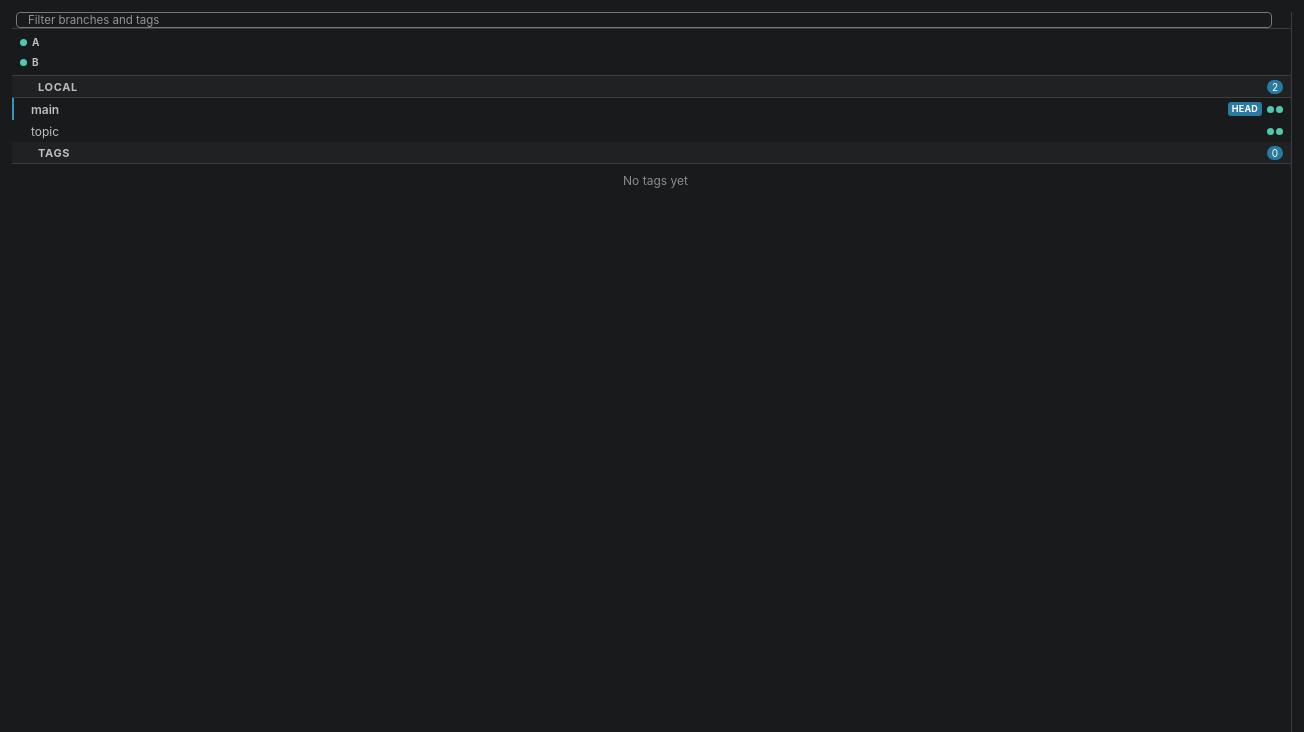
Scenario: plugin sidebar interaction parity › highlights the context target and dismisses on Escape without filtering
Right-click the button "topic": (45,131) [12, 120, 1291, 142]
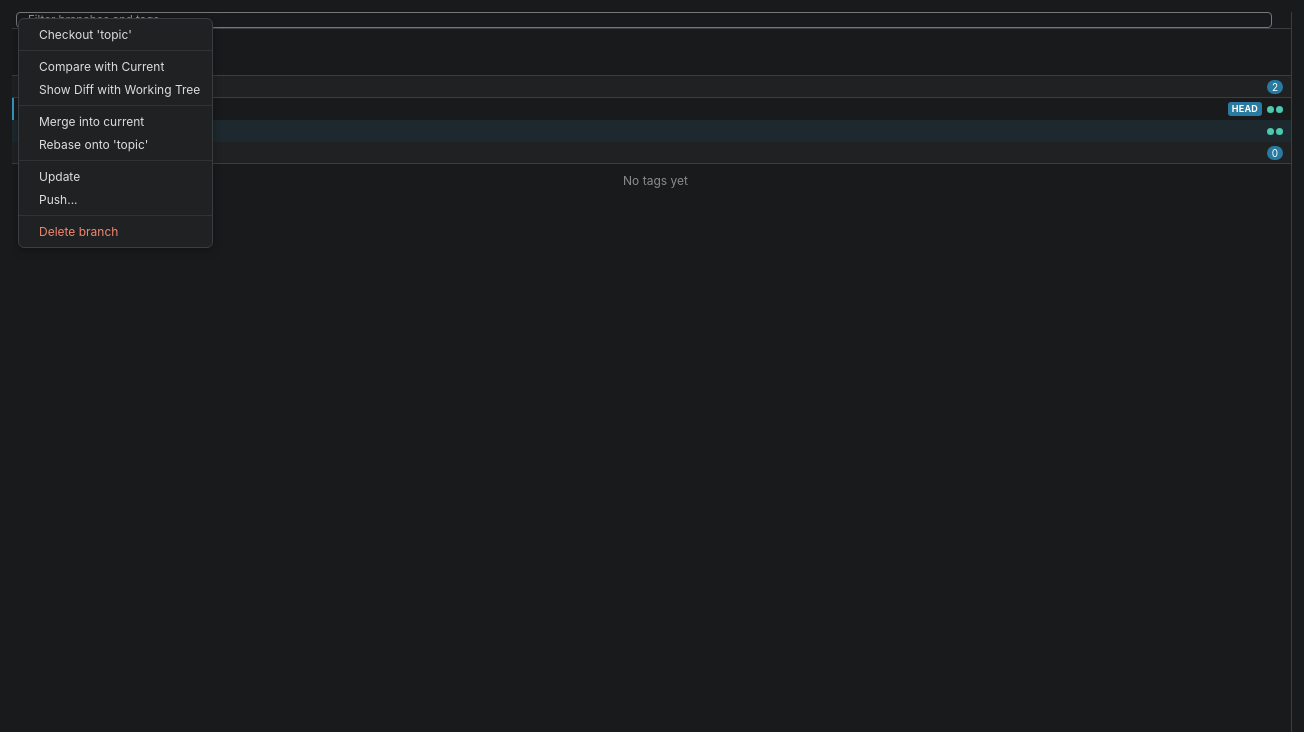
Check: the button "topic" has class "context-active", box [12, 120, 1291, 142]
Press Escape
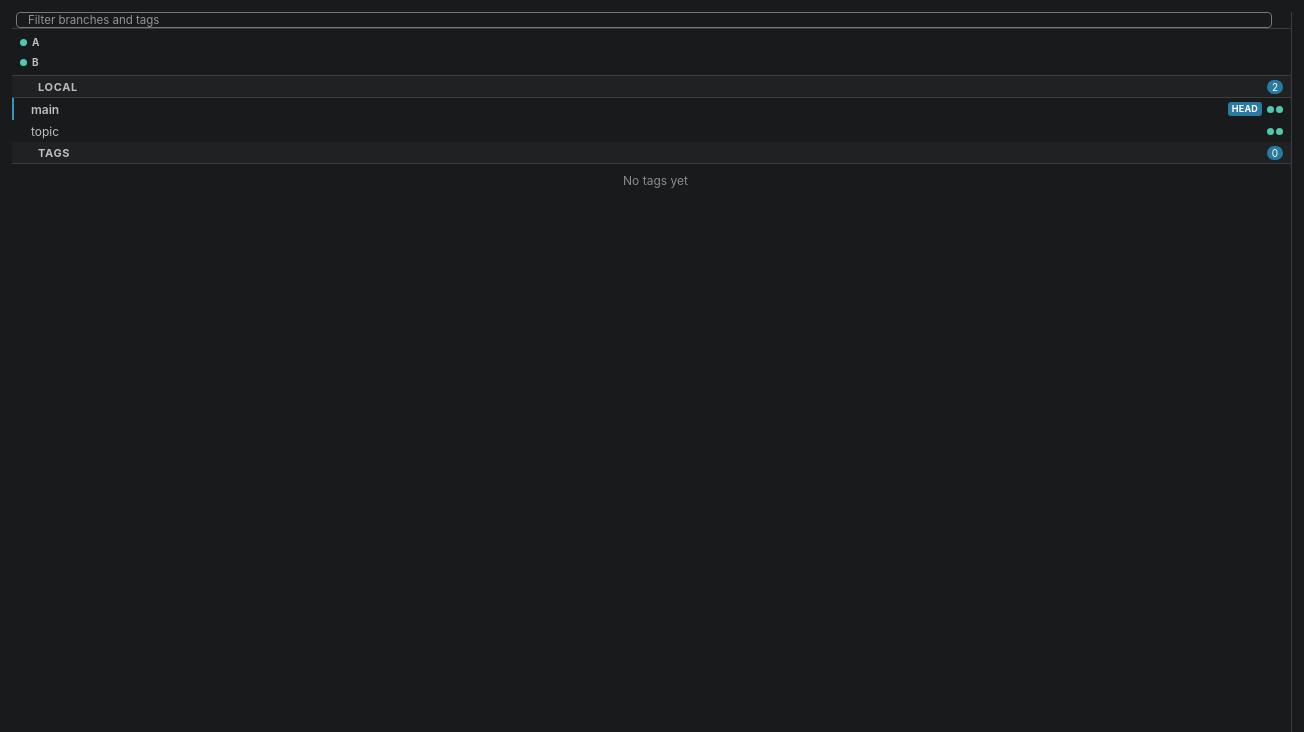
Check: the menu is gone
